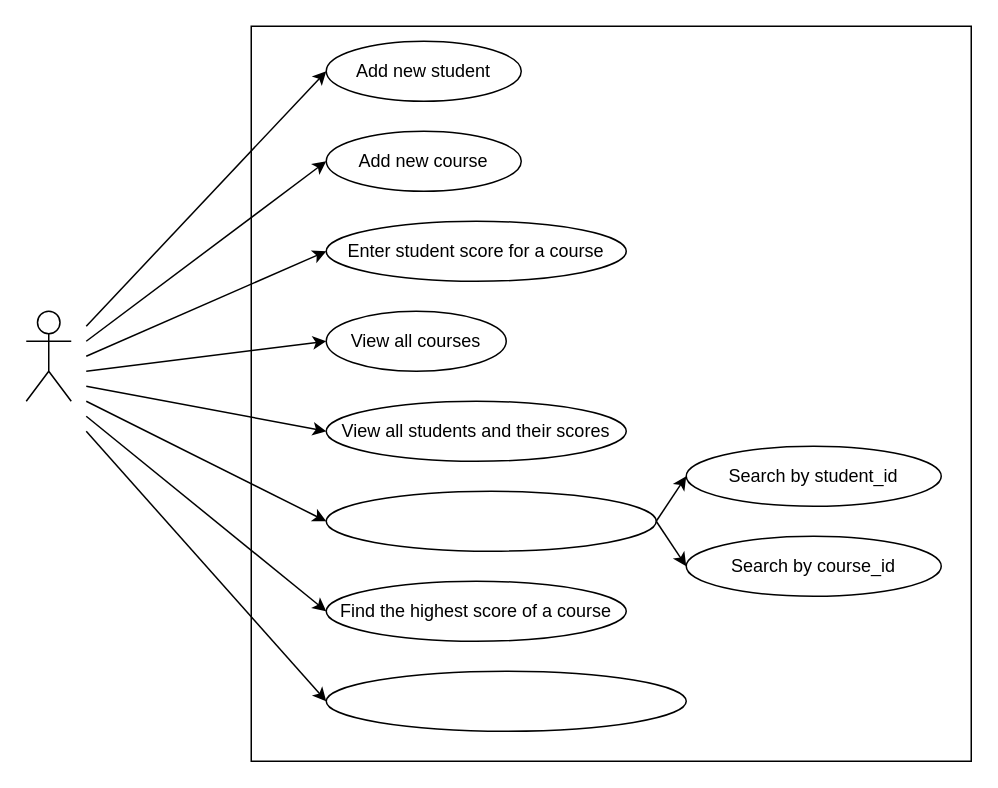
The diagram is 998 pixels wide and 788 high, and some of its shapes have lost their labels. Here are the shapes that lost their labels. From the top down, the centre of each, then its label:
(x=48, y=355): Actor
(x=490, y=520): Search for students and their scores
(x=505, y=700): Calculate the average score of a course
